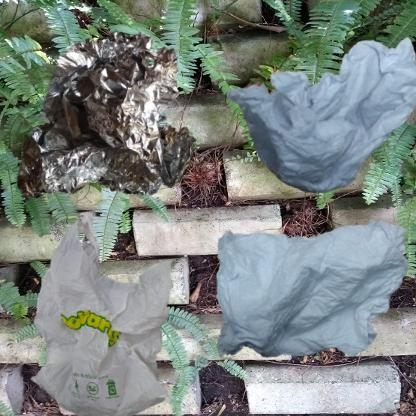aluminio: (10, 10, 230, 249)
bolsa: (10, 213, 220, 416)
papel: (213, 10, 416, 213), (213, 213, 412, 364)
